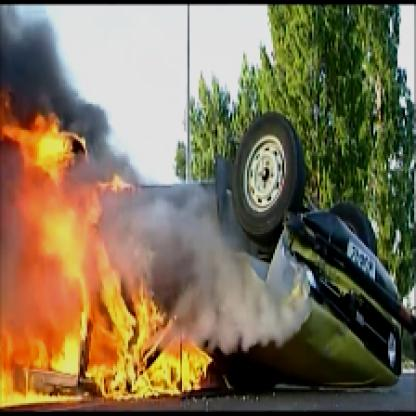Fire: (2, 54, 221, 414)
